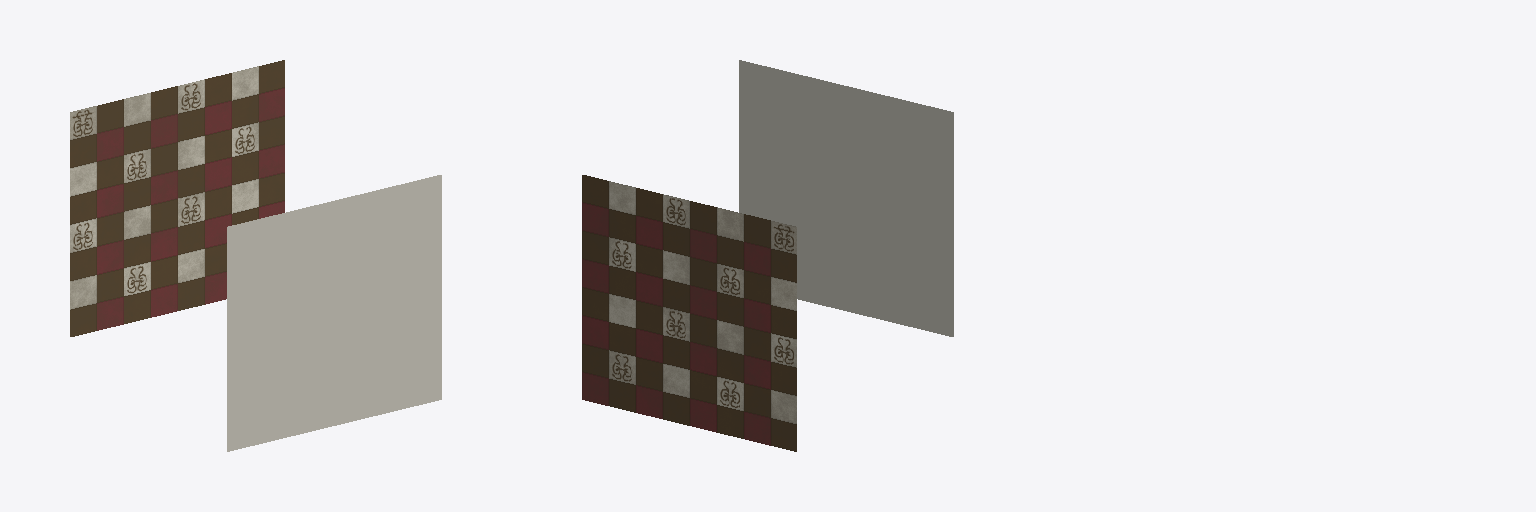
3 views of the same model, side by side, from view 1: azimuth 30°, elevation 25°; view 2: azimuth 150°, elevation 25°; view 3: azimuth 270°, elevation 25° (orthographic).
Visible parts, largest first — view 1: Plane; view 2: Plane; view 3: none.
Part boxes in pixels (bbox=[...]): Plane: bbox=[70, 60, 441, 451]; Plane: bbox=[582, 60, 953, 451].
Bounding box in the file's own units: 2 × 2 × 2.52.
Materials: 1 (1 with a texture image).